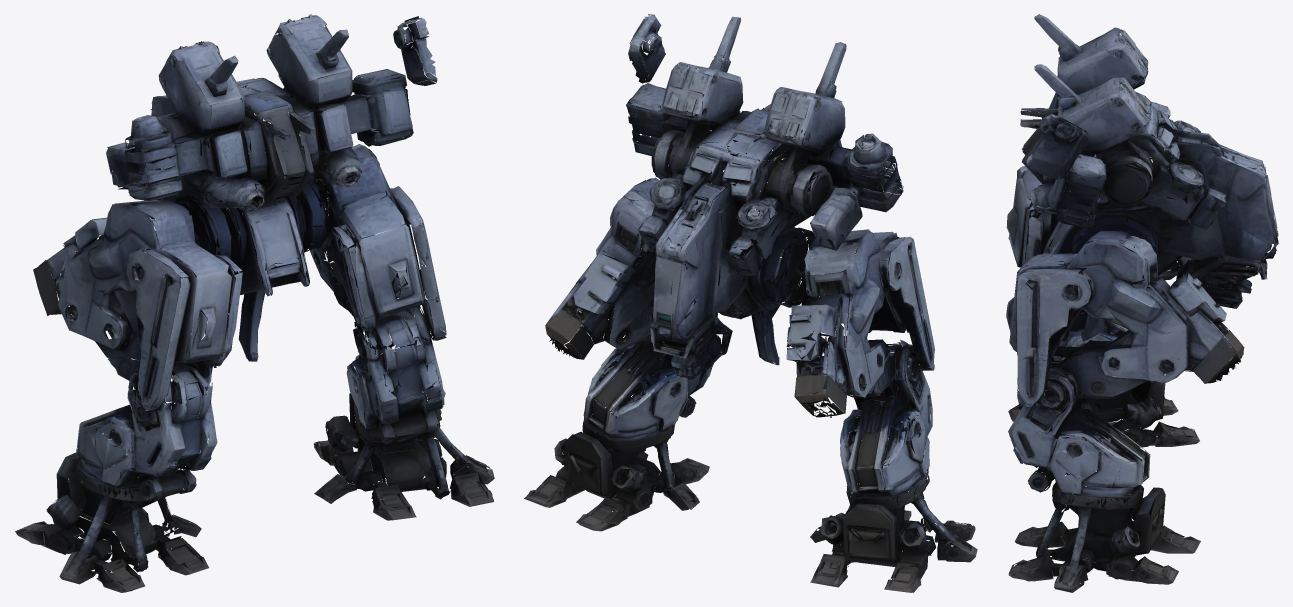
File: light_046748.glb
The picture shows the model from 3 angles, left to right: view 1: azimuth 30°, elevation 25°; view 2: azimuth 150°, elevation 25°; view 3: azimuth 270°, elevation 25°; orthographic projection. The views are drawn at different scales.
Visible parts, largest first — view 1: hull, thigh_l, thigh_r, foot_l, shin_l, foot_r, shin_r, pelvis; view 2: hull, thigh_l, foot_r, thigh_r, foot_l, shin_l, shin_r, pelvis; view 3: hull, thigh_r, foot_r, shin_r, foot_l, pelvis, thigh_l, shin_l.
Part boxes in pixels (box(x1,y1,x2,y2)): hull: box(106, 14, 437, 361); thigh_l: box(33, 168, 242, 407); thigh_r: box(305, 144, 446, 349); foot_l: box(15, 452, 208, 592); shin_l: box(76, 358, 217, 500); foot_r: box(314, 384, 494, 520); shin_r: box(346, 324, 446, 437); pelvis: box(178, 114, 356, 286); hull: box(626, 14, 903, 379); thigh_l: box(742, 187, 934, 417); foot_r: box(524, 397, 709, 531); thigh_r: box(545, 151, 731, 359); foot_l: box(810, 462, 977, 592); shin_l: box(840, 352, 934, 499); shin_r: box(583, 305, 713, 434); pelvis: box(638, 171, 814, 306); hull: box(1020, 14, 1278, 341); thigh_r: box(1006, 203, 1244, 403); foot_r: box(1008, 471, 1200, 592); shin_r: box(1008, 374, 1150, 504); foot_l: box(1008, 360, 1199, 447); pelvis: box(1028, 153, 1226, 285); thigh_l: box(1006, 141, 1224, 280); shin_l: box(1051, 307, 1128, 363).
Size of the model in its own units: 2.87 by 3.15 by 1.71.
1 material, 1 textured.
